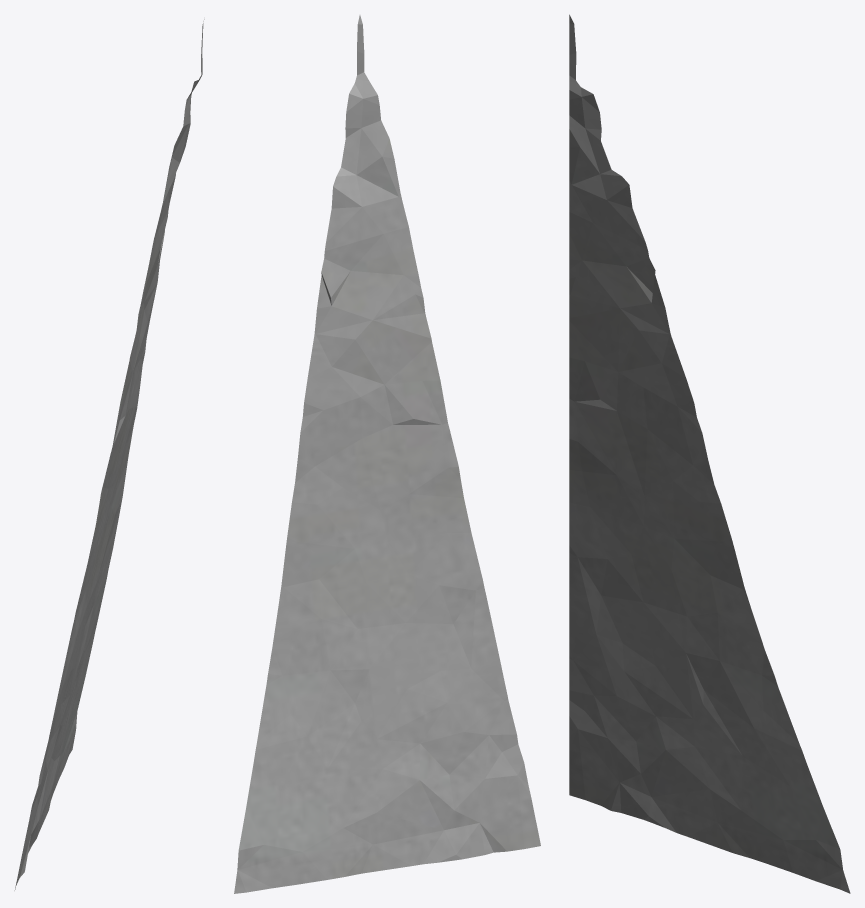
3 views of the same model, side by side, from view 1: azimuth 30°, elevation 25°; view 2: azimuth 150°, elevation 25°; view 3: azimuth 270°, elevation 25° (orthographic). The views are drawn at different scales.
Size of the model in its own units: 0.1979 by 0.8228 by 0.2384.
Materials: 1 (1 with a texture image).
